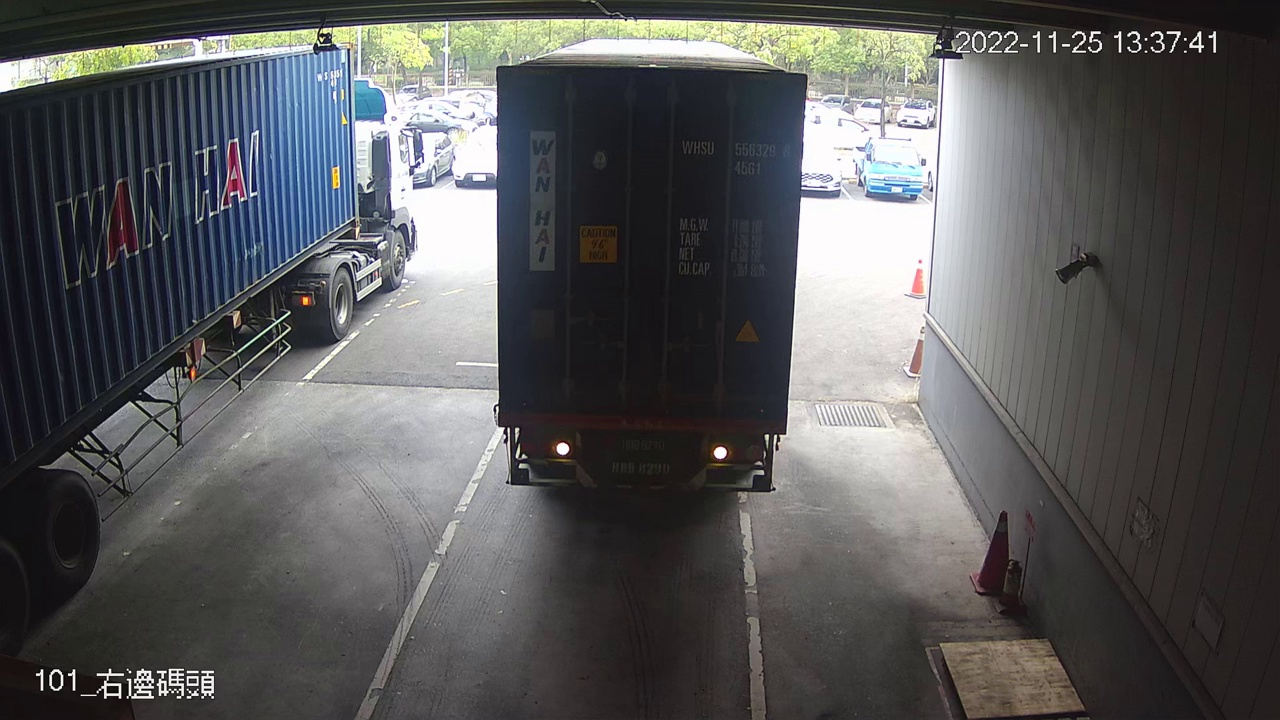container: (677, 133, 796, 182)
